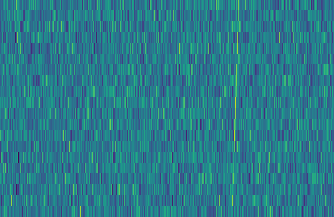signal: (228, 0, 244, 217)
